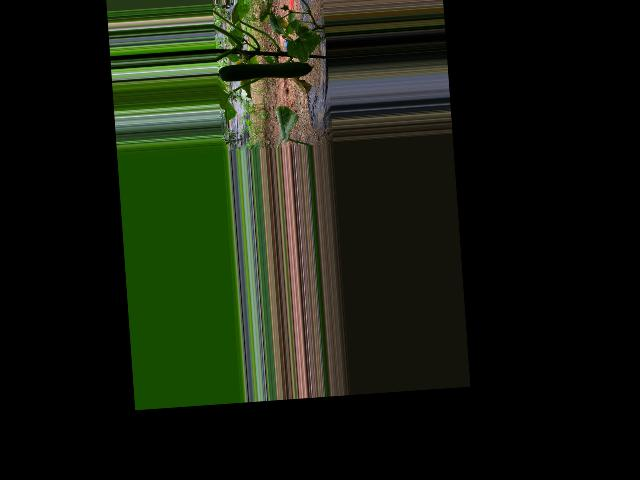cucumber: (218, 59, 315, 83)
